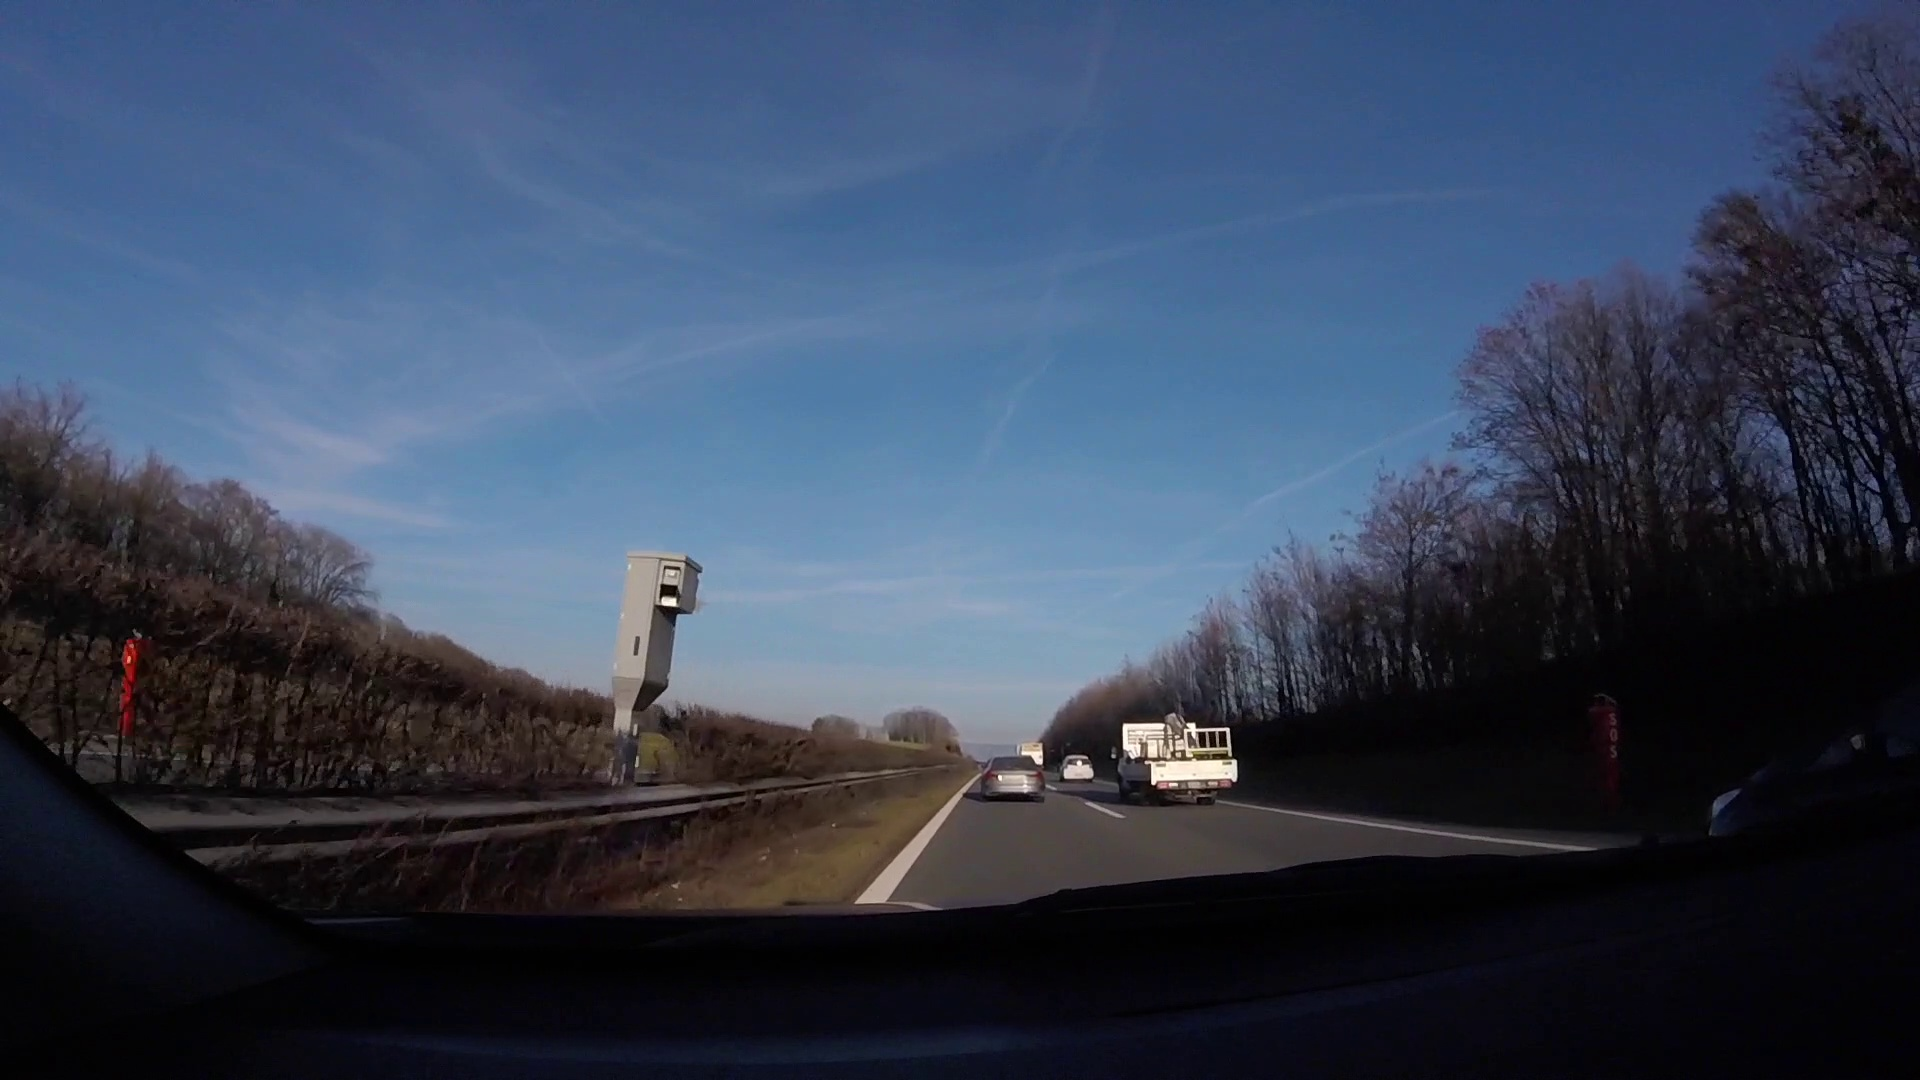radar: (611, 549, 705, 767)
